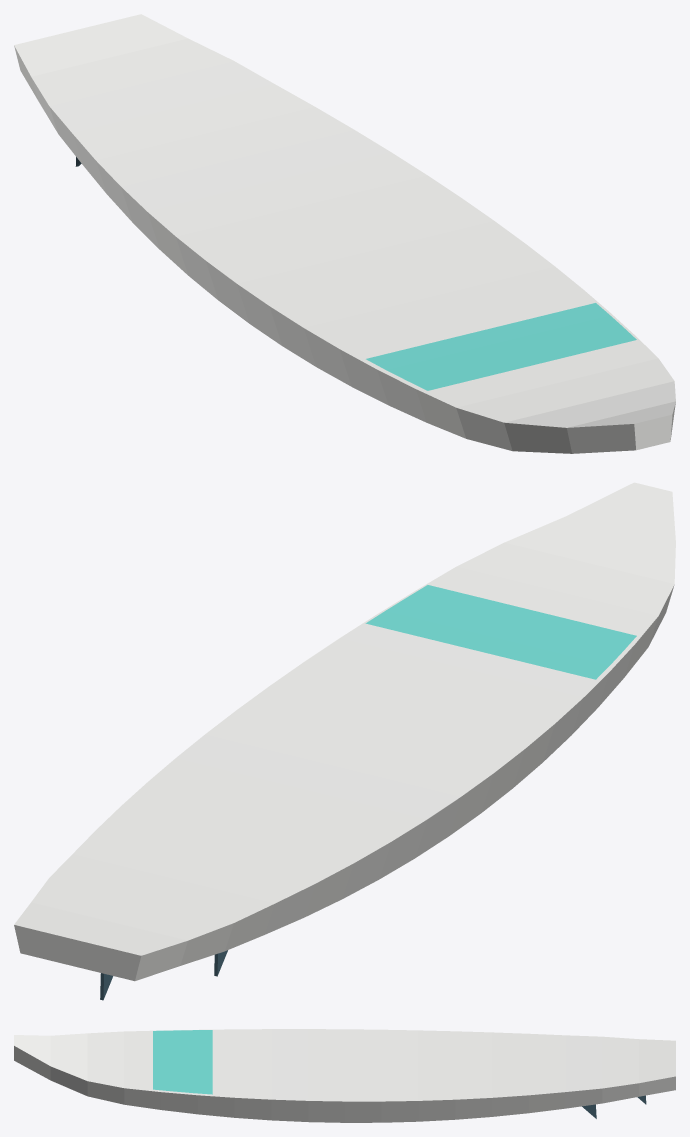
The model's file is BoardFoamie.fbx.
3 views of the same model, one above another, from view 1: azimuth 30°, elevation 25°; view 2: azimuth 150°, elevation 25°; view 3: azimuth 270°, elevation 25° (orthographic). The views are drawn at different scales.
Parts seen in each view (by area): view 1: BoardFoamie; view 2: BoardFoamie; view 3: BoardFoamie.
Part boxes in pixels (x1,y1,x2,y2): BoardFoamie: (14,14,675,453); BoardFoamie: (14,482,675,1000); BoardFoamie: (14,1029,675,1122).
Size of the model in its own units: 0.62 by 0.255 by 2.4.
